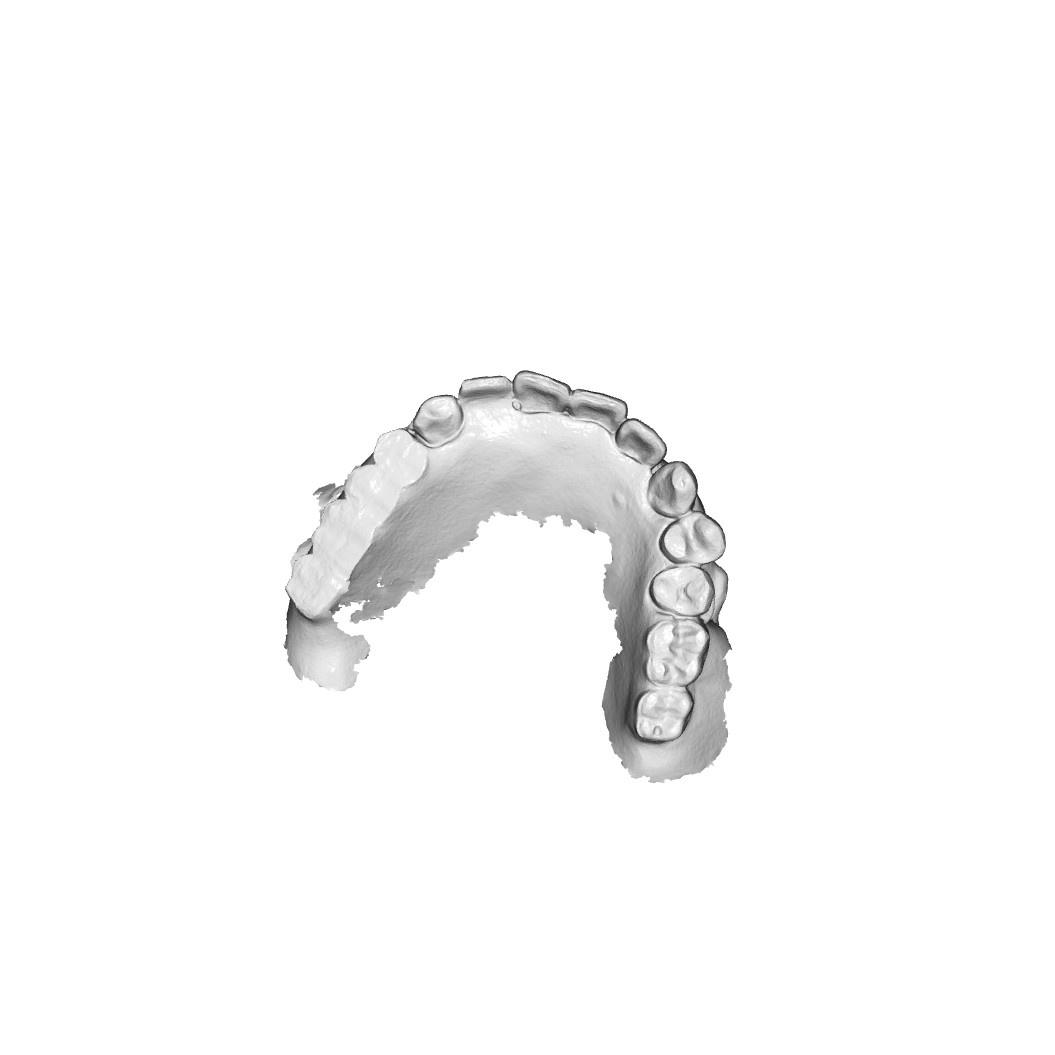canine: (644, 460, 698, 518), (412, 394, 466, 440)
incisor: (511, 368, 574, 420), (569, 386, 625, 436), (620, 416, 669, 470), (455, 376, 512, 412)
molar: (644, 620, 706, 683), (629, 686, 693, 745)
premolar: (660, 514, 726, 565), (371, 428, 428, 487), (650, 563, 712, 616), (343, 465, 397, 522)
